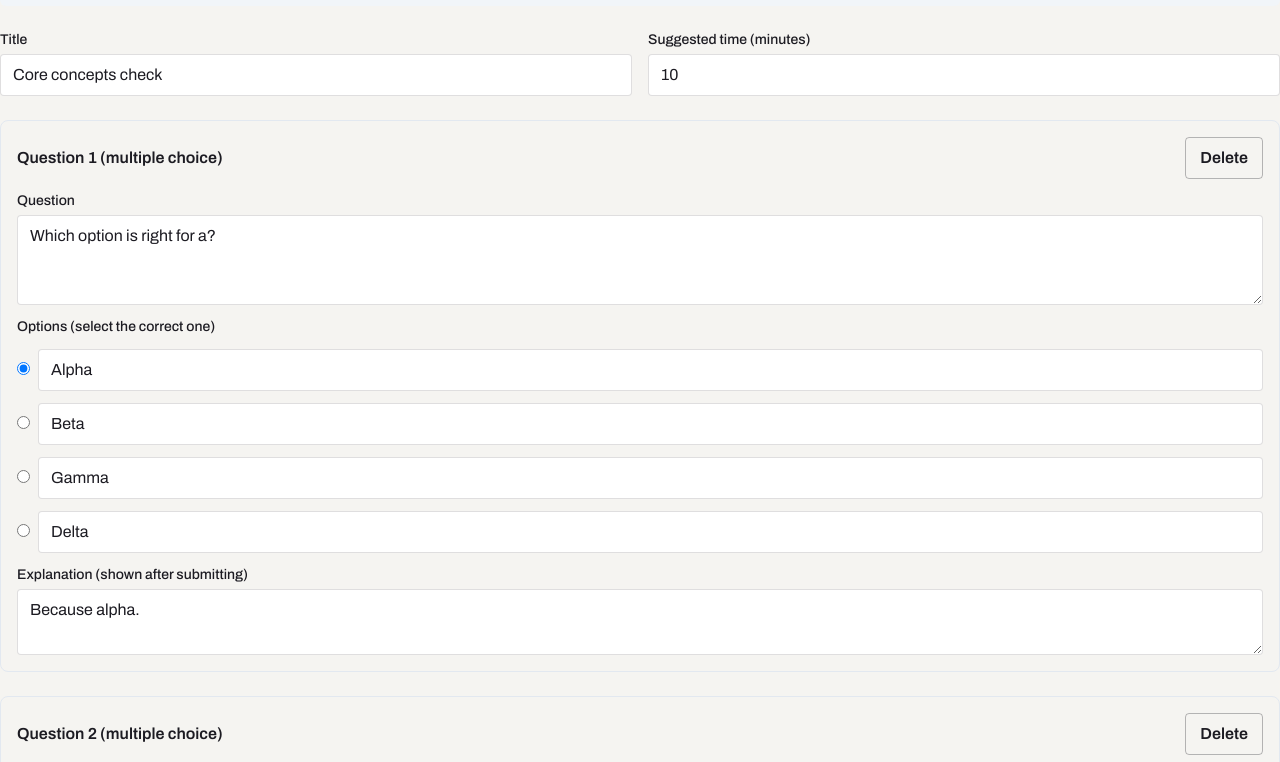
Test: AssessmentEditor › blocks saving duplicate options and says which question
Replace the text in the field named "Question 1 option 2" with "Alpha". click: (650, 424)
box: [38,403,1263,445]
(page scrolled)
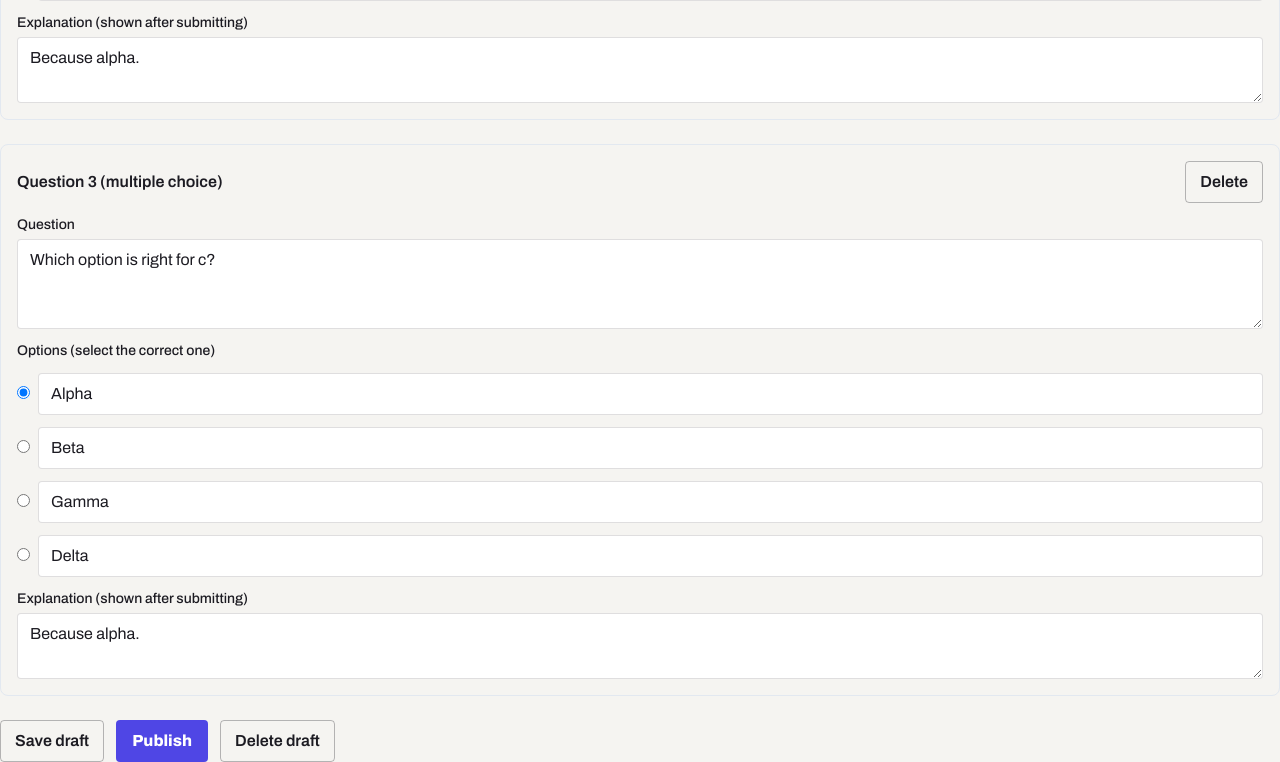
Click the button "Save draft". click: (52, 741)
box: [0,720,104,761]
(page scrolled)
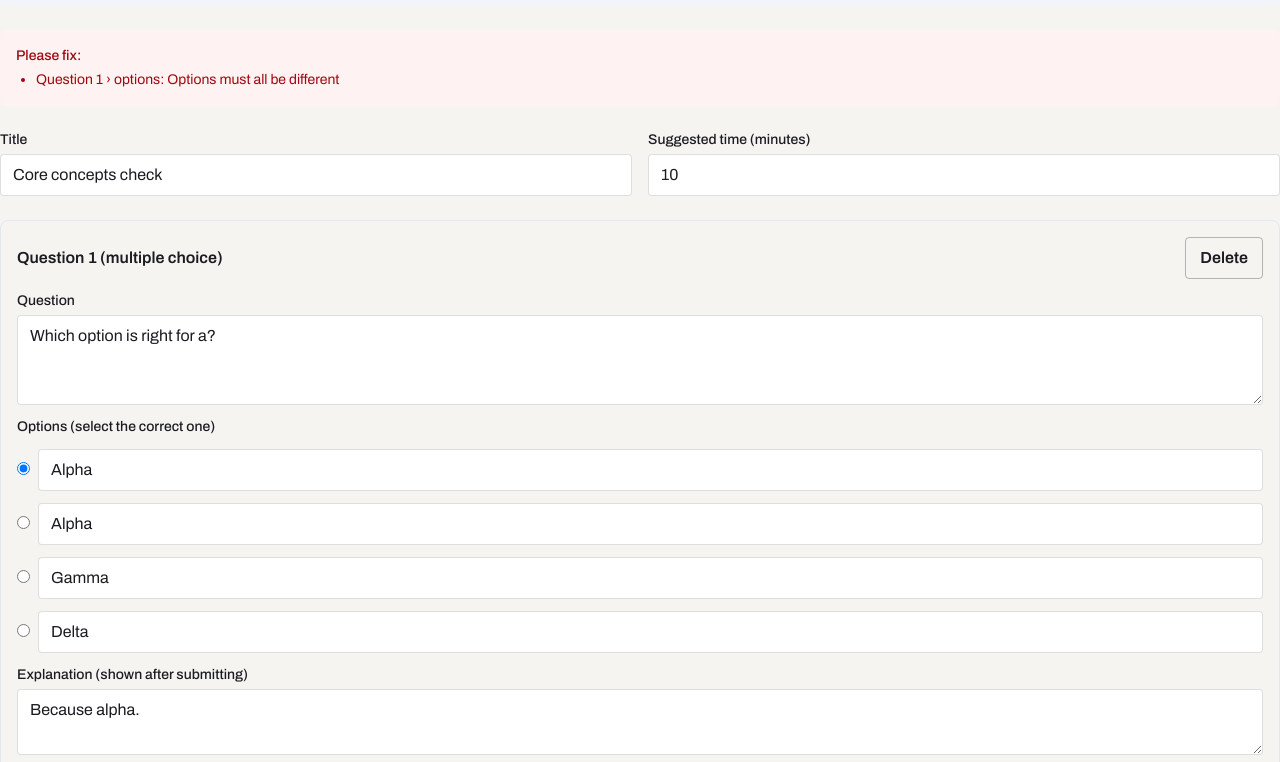
Expected: the list item "Question 1 › options: Options must all be different" is shown, [36,72,339,87]
